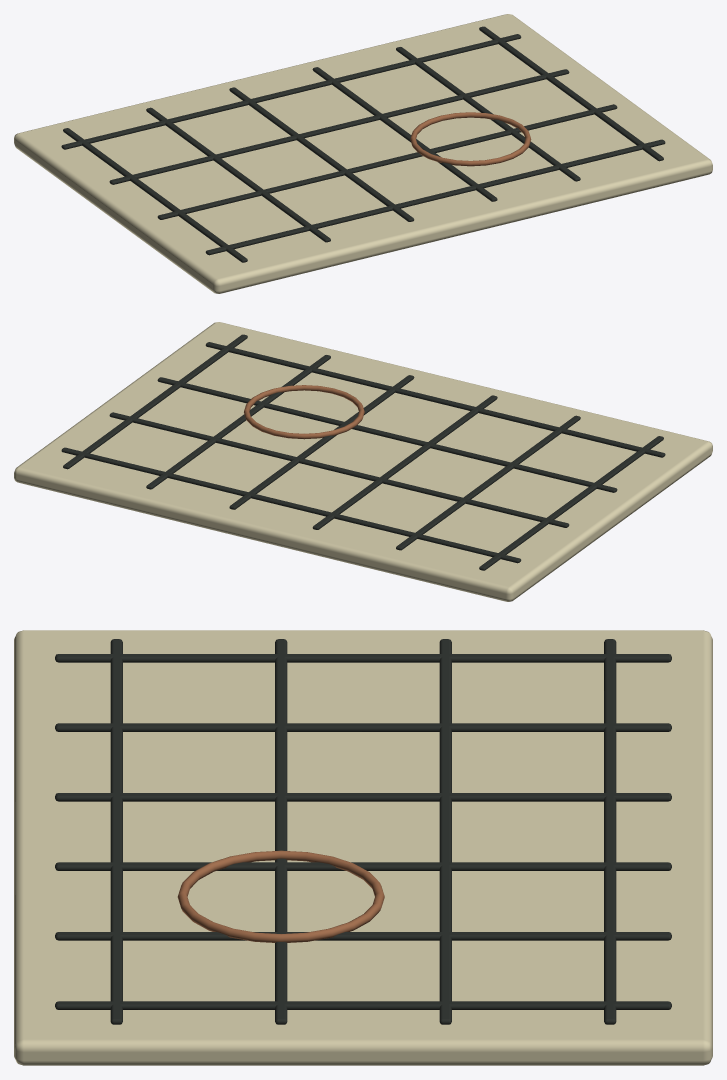
The model's file is undercity-sewers-and-thieves-den-map-of-city-c30a1737__27251.glb.
The picture shows the model from 3 angles, top to bottom: view 1: azimuth 30°, elevation 25°; view 2: azimuth 150°, elevation 25°; view 3: azimuth 270°, elevation 25°; orthographic projection. The views are drawn at different scales.
Visible parts, largest first — view 1: map-of-city; view 2: map-of-city; view 3: map-of-city.
Part boxes in pixels (x1,y1,x2,y2): map-of-city: (14, 14, 712, 293); map-of-city: (14, 322, 712, 601); map-of-city: (14, 630, 712, 1065).
Size of the model in its own units: 1.2 by 0.051 by 0.85.
